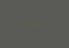eight: (37, 19, 41, 27)
nine: (17, 21, 21, 29), (47, 18, 51, 26), (22, 21, 26, 28), (32, 20, 36, 27)
one: (27, 20, 31, 28)
seven: (42, 19, 46, 26)
